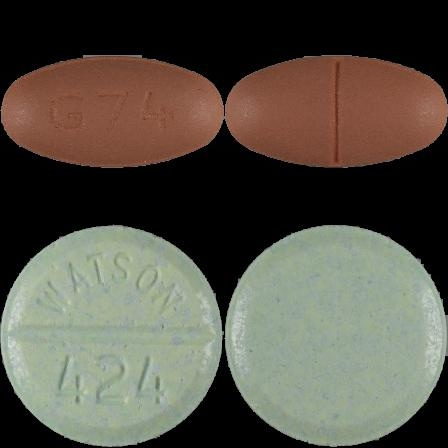68788-9790: (0, 0, 224, 224)
